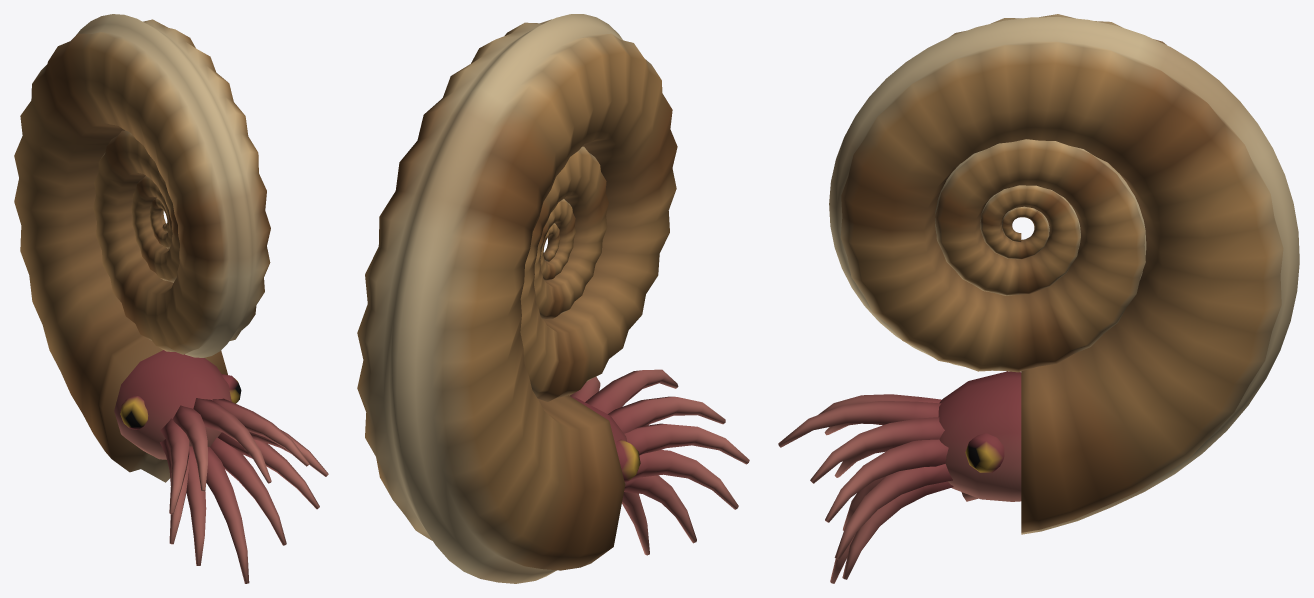
Rendered from Asteroceras.fbx.
3 views of the same model, side by side, from view 1: azimuth 30°, elevation 25°; view 2: azimuth 150°, elevation 25°; view 3: azimuth 270°, elevation 25° (orthographic). The views are drawn at different scales.
Parts seen in each view (by area): view 1: Asteroceras; view 2: Asteroceras; view 3: Asteroceras.
Part boxes in pixels (x1=…): Asteroceras: x1=14, y1=14, x2=328, y2=583; Asteroceras: x1=357, y1=14, x2=749, y2=583; Asteroceras: x1=778, y1=14, x2=1299, y2=583.
Bounding box in the file's own units: 0.6702 × 1.96 × 1.64.
